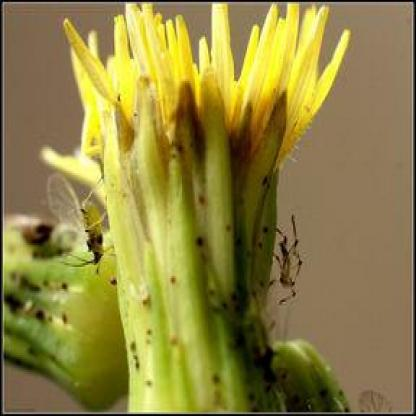aphid: (42, 158, 121, 284), (266, 208, 307, 313)
